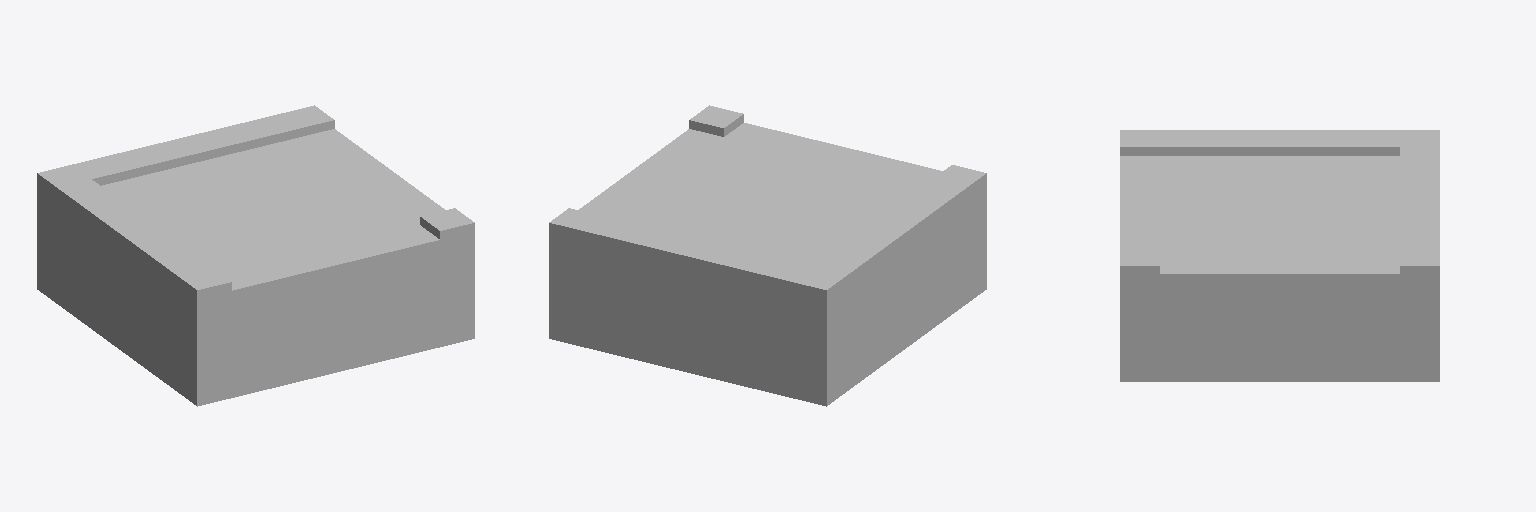
Rendered from tile_093.obj.
The picture shows the model from 3 angles: view 1: azimuth 30°, elevation 25°; view 2: azimuth 150°, elevation 25°; view 3: azimuth 270°, elevation 25°; orthographic projection.
Parts seen in each view (by area): view 1: tile_093; view 2: tile_093; view 3: tile_093.
Boxes of the visible parts, <box> form: tile_093: <box>37,105,474,406</box>; tile_093: <box>549,105,986,406</box>; tile_093: <box>1120,130,1439,381</box>.
Size of the model in its own units: 1 by 0.4 by 1.